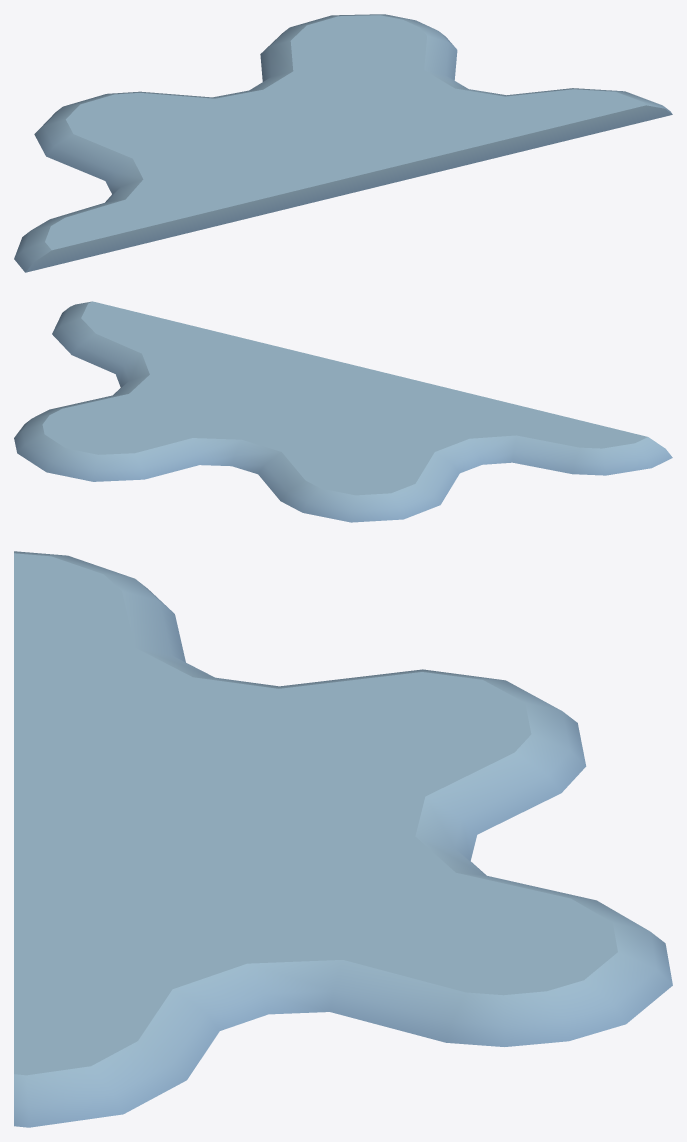
The model's file is puddle-half.glb.
3 renders of one model, top to bottom at view 1: azimuth 30°, elevation 25°; view 2: azimuth 150°, elevation 25°; view 3: azimuth 270°, elevation 25°, orthographic. The views are drawn at different scales.
Visible parts, largest first — view 1: puddle-half; view 2: puddle-half; view 3: puddle-half.
Part boxes in pixels (bbox=[...]): puddle-half: bbox=[14, 14, 672, 272]; puddle-half: bbox=[14, 301, 672, 522]; puddle-half: bbox=[14, 551, 672, 1127].
Bounding box in the file's own units: 0.8507 × 0.02 × 0.4164.
